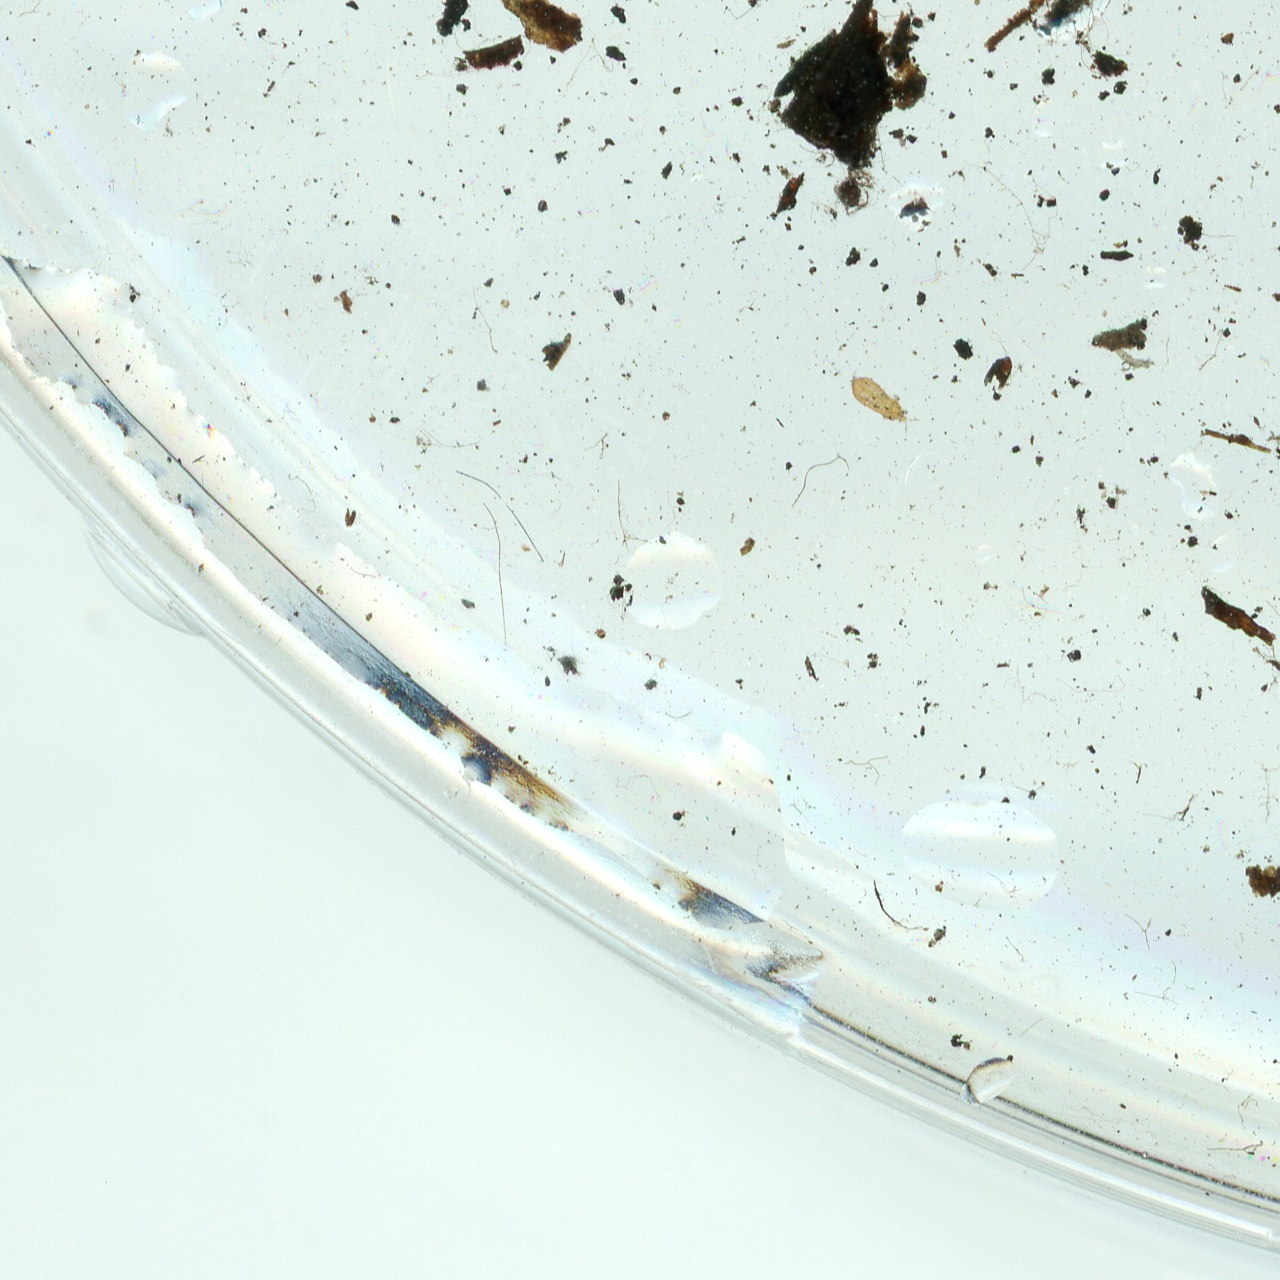arthropod: (837, 363, 928, 445)
